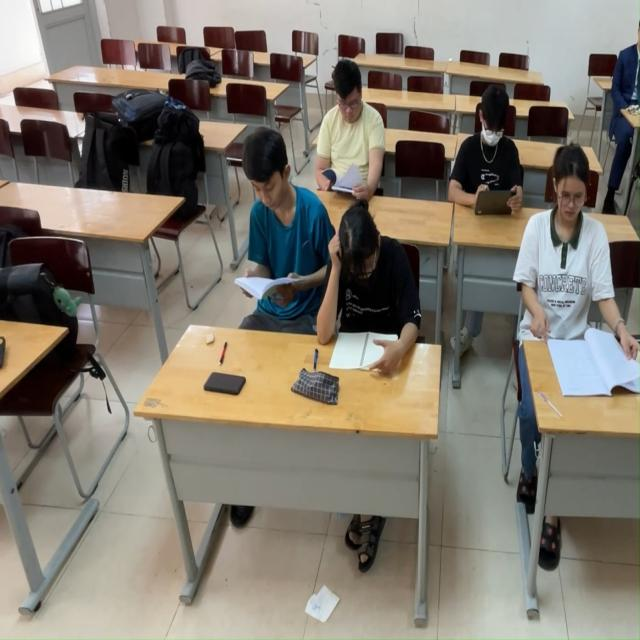read: (530, 138, 632, 407), (224, 135, 319, 329), (320, 216, 414, 385), (318, 59, 399, 206), (450, 88, 532, 225)
